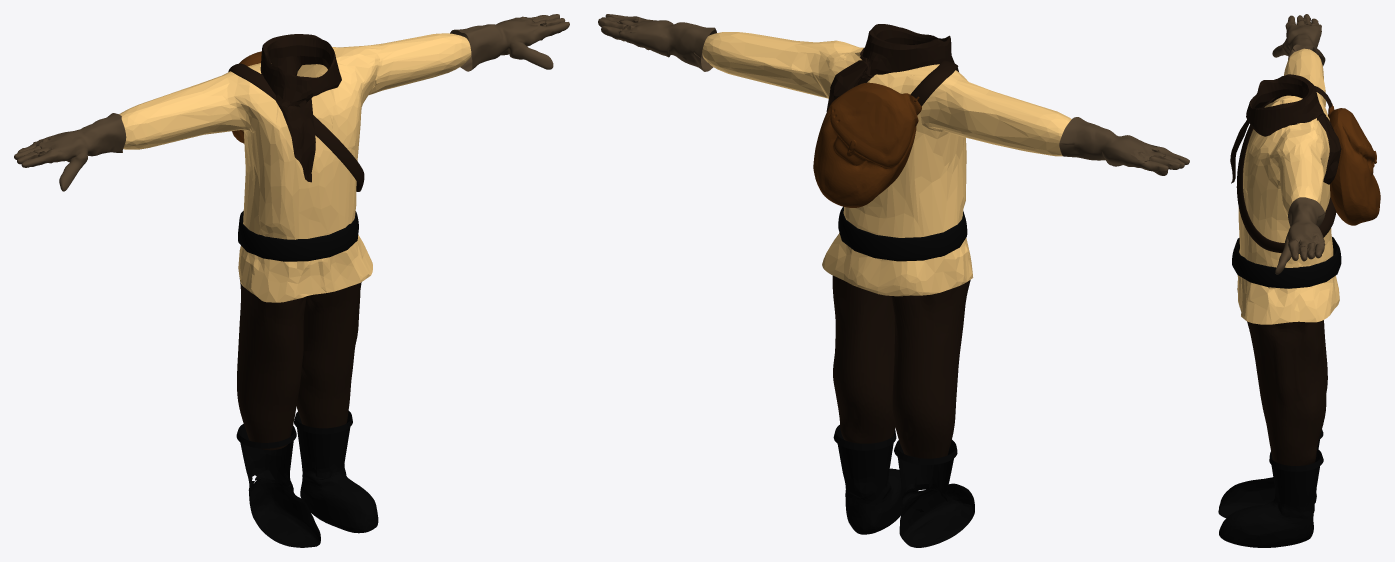
The model's file is charachter_mod.fbx.
3 renders of one model, left to right at view 1: azimuth 30°, elevation 25°; view 2: azimuth 150°, elevation 25°; view 3: azimuth 270°, elevation 25°, orthographic. The views are drawn at different scales.
Parts seen in each view (by area): view 1: cloths; view 2: cloths; view 3: cloths.
Part boxes in pixels (<box>): cloths: <box>14,14,569,547</box>; cloths: <box>598,14,1189,547</box>; cloths: <box>1218,14,1380,547</box>.
Bounding box in the file's own units: 650 × 538 × 180.
